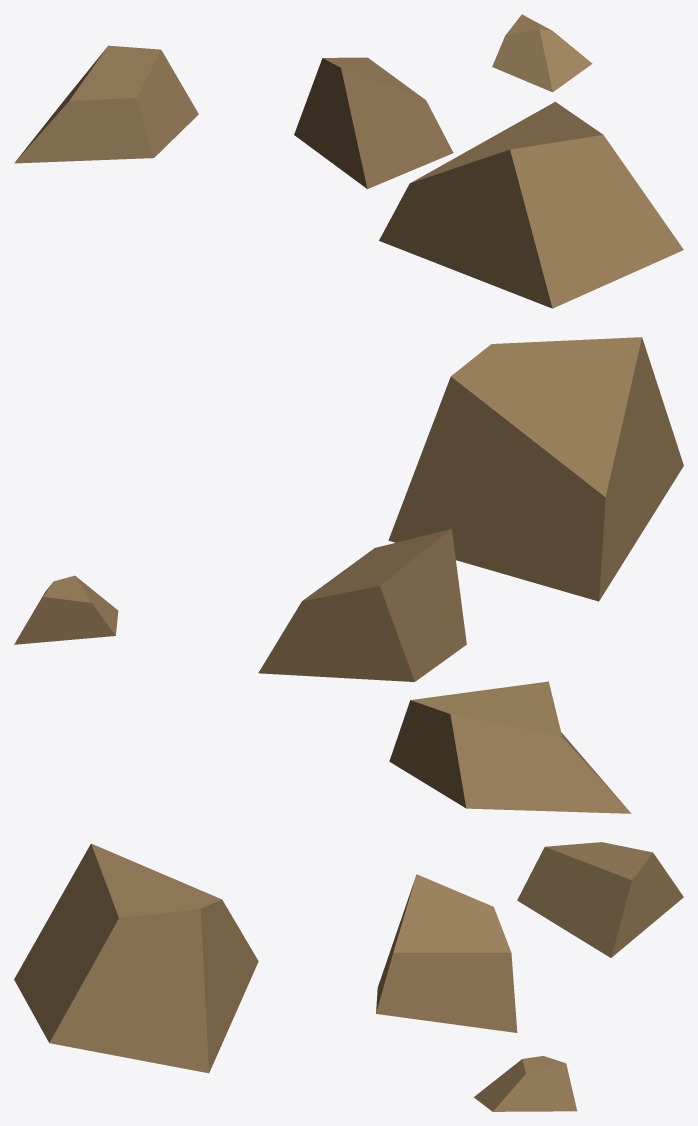
The model's file is desert_rocks_1.fbx.
3 views of the same model, one above another, from view 1: azimuth 30°, elevation 25°; view 2: azimuth 150°, elevation 25°; view 3: azimuth 270°, elevation 25° (orthographic). The views are drawn at different scales.
Visible parts, largest first — view 1: desert_rocks_1_LOD0; view 2: desert_rocks_1_LOD0; view 3: desert_rocks_1_LOD0.
Part boxes in pixels (x1,y1,x2,y2): desert_rocks_1_LOD0: (14,14,683,308); desert_rocks_1_LOD0: (14,337,683,813); desert_rocks_1_LOD0: (14,842,683,1111).
Size of the model in its own units: 358 by 102 by 391.
